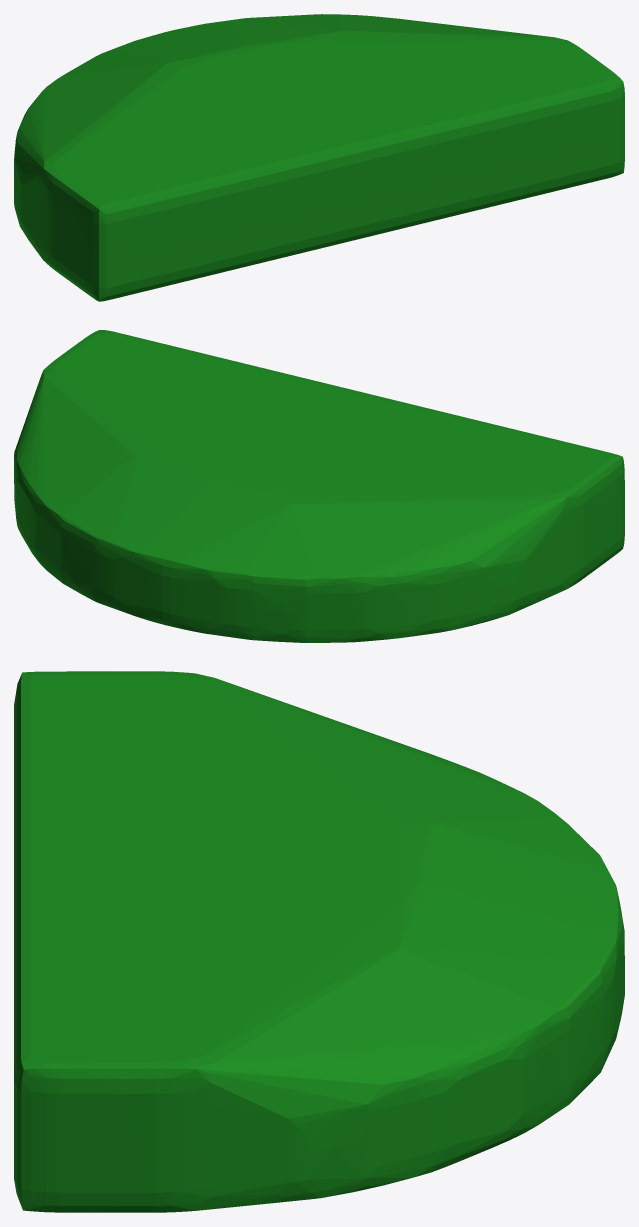
File: right_shoulder_yaw_link_part_8.obj
3 renders of one model, top to bottom at view 1: azimuth 30°, elevation 25°; view 2: azimuth 150°, elevation 25°; view 3: azimuth 270°, elevation 25°, orthographic. The views are drawn at different scales.
Bounding box in the file's own units: 0.0988 × 0.0168 × 0.0633.
